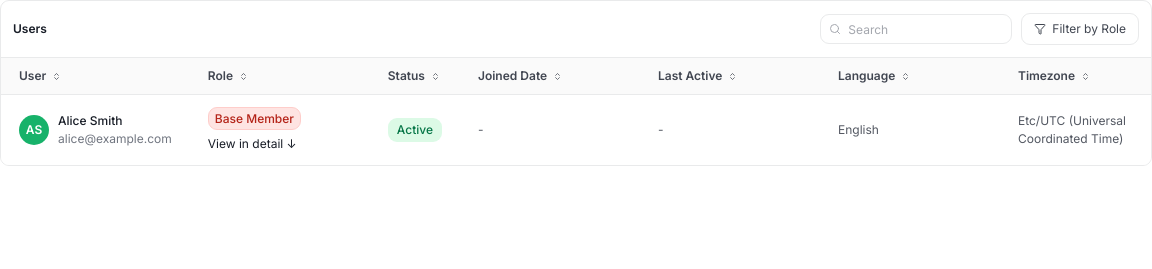
it: UserTable › Role Filter › shows empty state when no users match role filter
Click the button "Filter by Role" at (1080, 29), box [1021,13,1139,45]
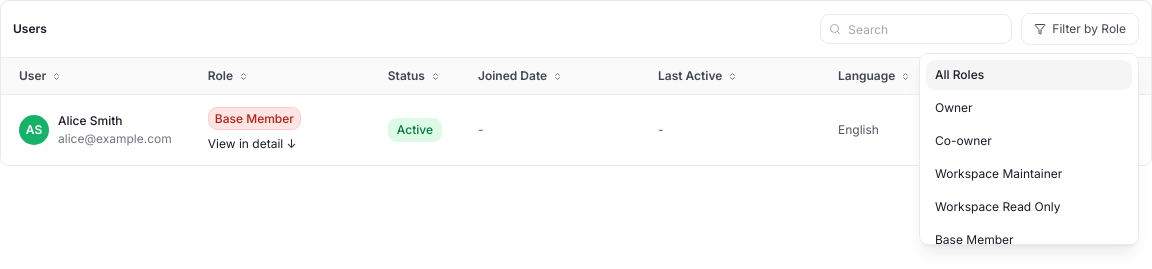
Click the button "Owner" at (1029, 108), box [926,93,1132,123]
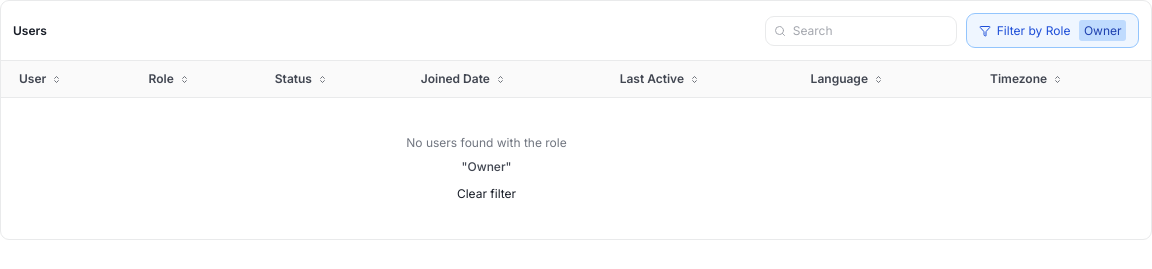
Now the text "No users found with the role" is shown, box [406,134,567,152]
Now the text "\"Owner\"" is shown, box [462,158,511,176]
